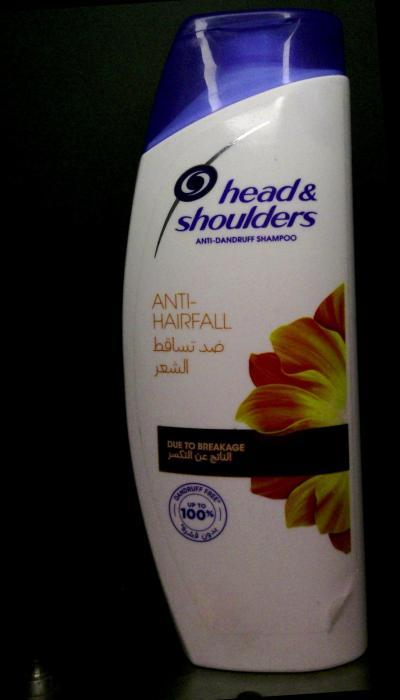adhesion_unacc: (316, 569, 357, 637)
